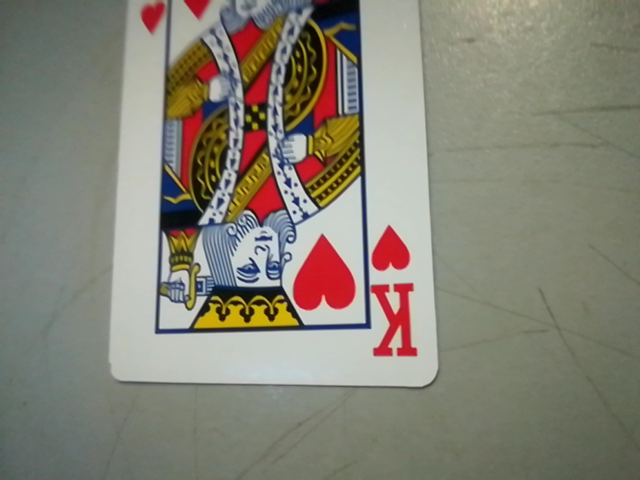hx k: (360, 218, 432, 372)
